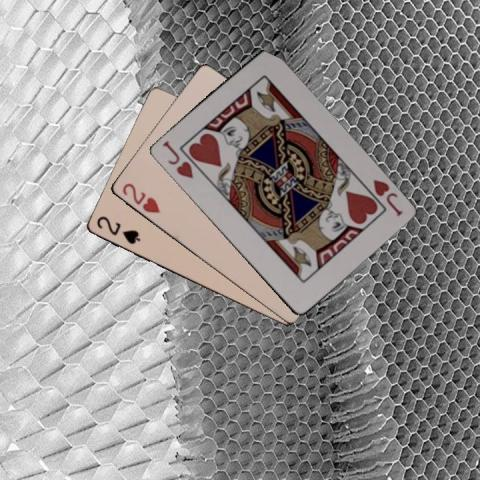2h: (119, 180, 161, 215)
2s: (93, 213, 142, 246)
Jh: (159, 137, 195, 180), (369, 177, 404, 218)
